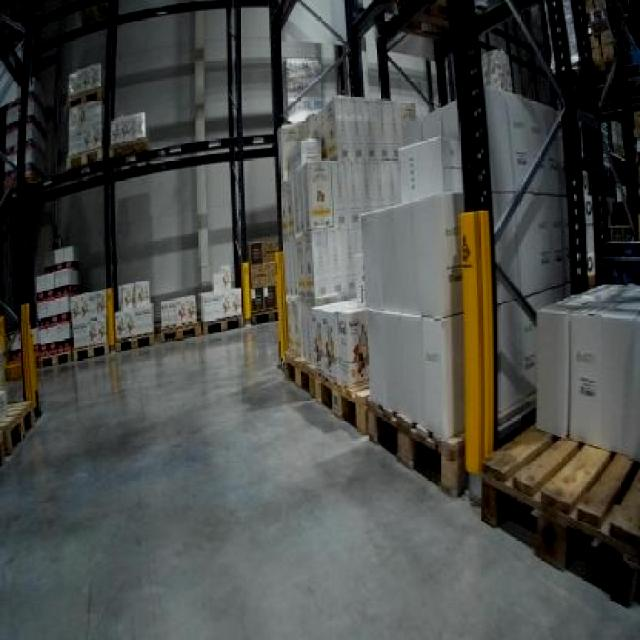floor: (0, 323, 637, 637)
pallets: (480, 283, 637, 602), (535, 283, 637, 458)
